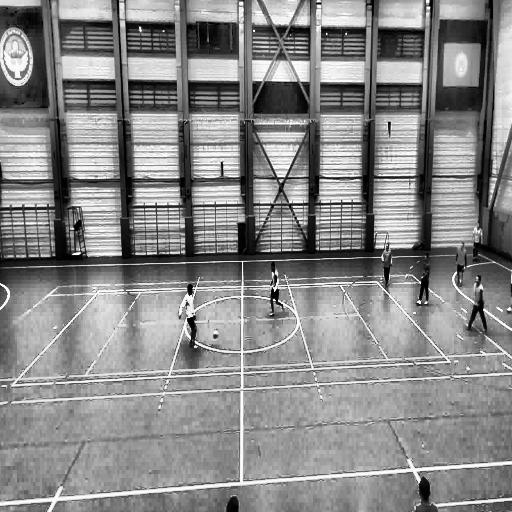ball: (210, 325, 220, 342)
player: (465, 274, 488, 332), (181, 283, 199, 350), (268, 261, 286, 318), (415, 249, 430, 304), (453, 242, 467, 286), (382, 242, 393, 284), (472, 220, 483, 260), (507, 254, 512, 313)
